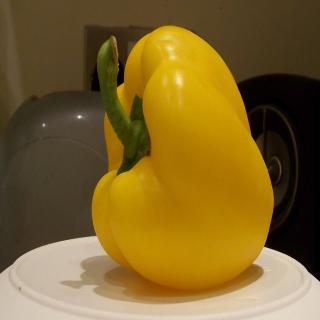Bell pepper: (90, 23, 272, 289)
